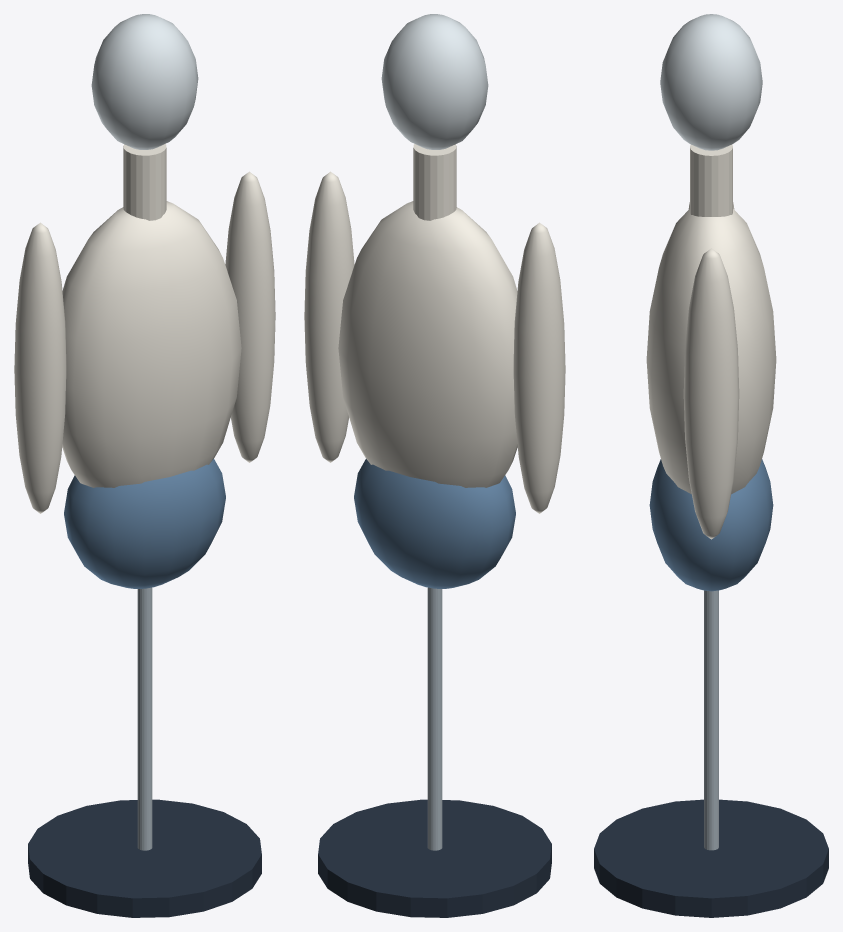
The model's file is mall_01.glb.
The picture shows the model from 3 angles, left to right: view 1: azimuth 30°, elevation 25°; view 2: azimuth 150°, elevation 25°; view 3: azimuth 270°, elevation 25°; orthographic projection.
Parts seen in each view (by area): view 1: MannequinTorso, MannequinArm (×2), MannequinFoot, MannequinHips, MannequinHead, MannequinStem, Neck; view 2: MannequinTorso, MannequinArm (×2), MannequinFoot, MannequinHips, MannequinHead, MannequinStem, Neck; view 3: MannequinFoot, MannequinTorso, MannequinArm, MannequinHead, MannequinHips, MannequinStem, Neck.
Boxes of the visible parts, x1,y1,x2,y2 form: MannequinTorso: [62, 201, 241, 487]; MannequinArm (×2): [14, 171, 275, 513]; MannequinFoot: [28, 799, 261, 917]; MannequinHips: [64, 459, 225, 588]; MannequinHead: [91, 14, 198, 149]; MannequinStem: [137, 587, 152, 850]; Neck: [123, 144, 166, 220]; MannequinTorso: [338, 201, 517, 487]; MannequinArm (×2): [304, 171, 565, 513]; MannequinFoot: [318, 799, 551, 917]; MannequinHips: [354, 459, 515, 588]; MannequinHead: [381, 14, 488, 149]; MannequinStem: [427, 587, 442, 850]; Neck: [413, 144, 456, 220]; MannequinFoot: [594, 799, 828, 917]; MannequinTorso: [646, 209, 776, 494]; MannequinArm: [683, 248, 739, 539]; MannequinHead: [660, 14, 762, 150]; MannequinHips: [649, 459, 773, 591]; MannequinStem: [704, 590, 718, 850]; Neck: [690, 144, 732, 216].
Size of the model in its own units: 0.474 by 1.52 by 0.38.
